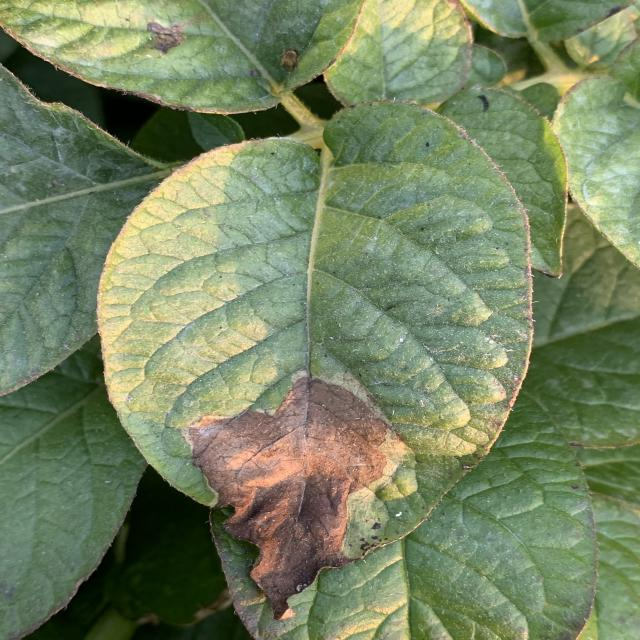lateblight: (190, 378, 388, 616), (147, 21, 185, 54)
